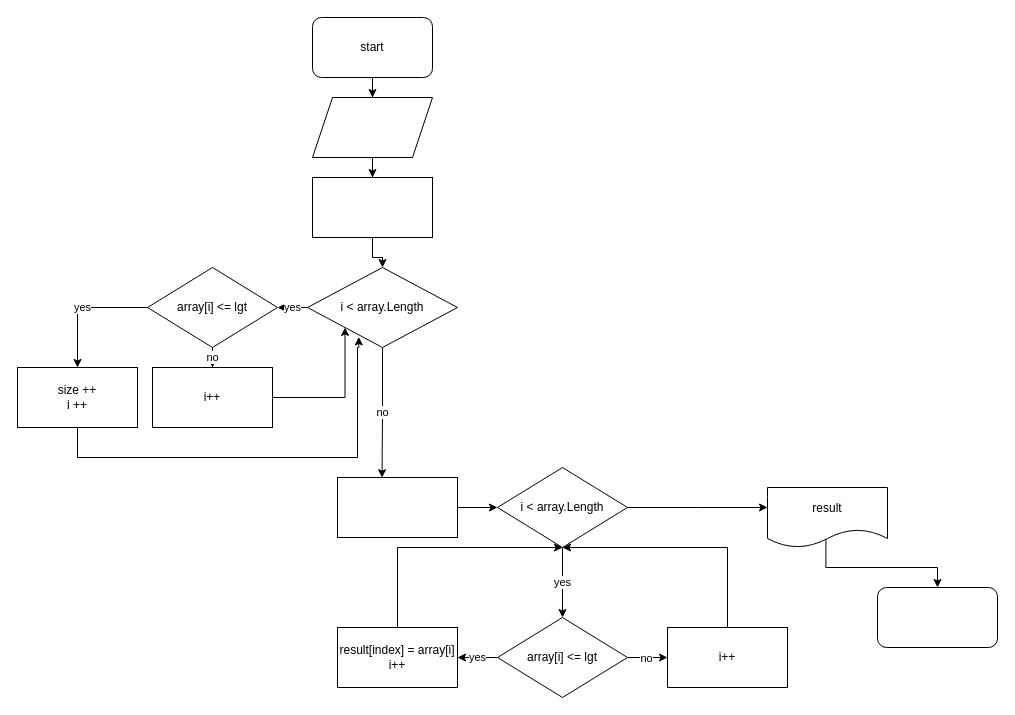
The diagram is 1015 pixels wide and 715 high, and some of its shapes have lost their labels. The centre of each missing label's shape, as x and y in pixels:
int size = 0 int i = 0: (372,207)
stop: (937,617)
string[] array, int lgt: (372,127)
string[] result result.Length = size int index = 0 int i = 0: (397,507)
